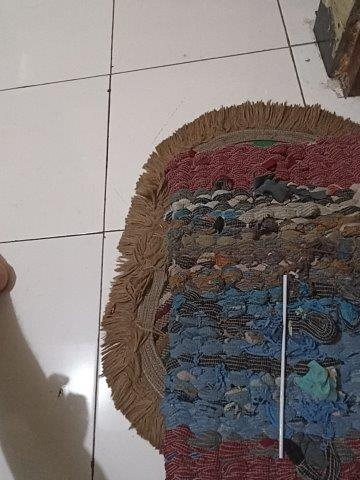sedotan: (278, 276, 287, 458)
